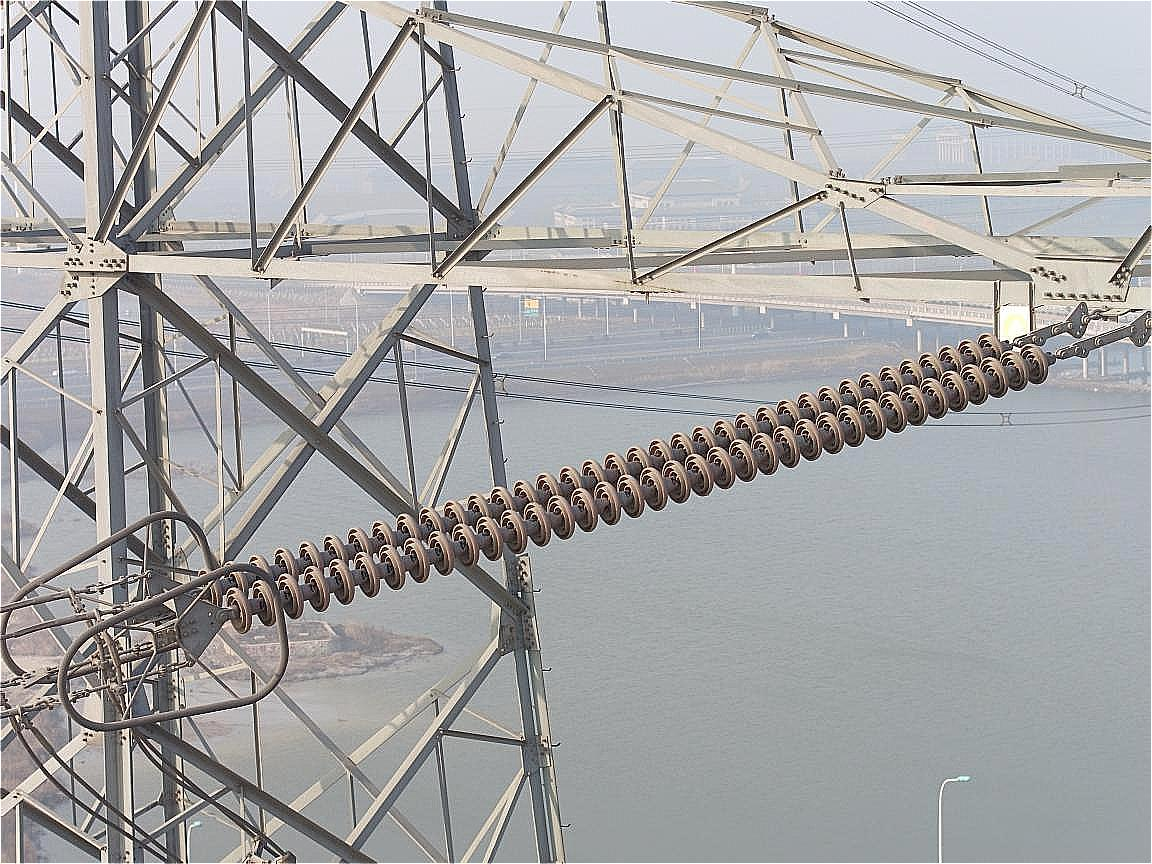insultor1: (172, 306, 1075, 663)
